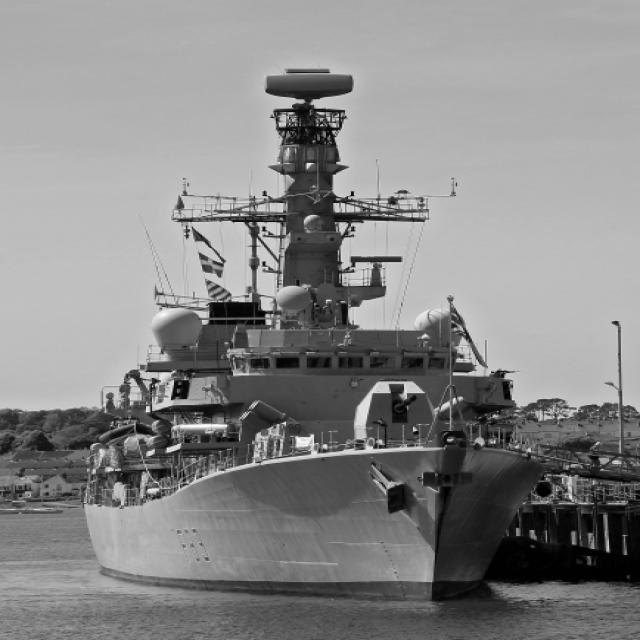Fragata: (81, 65, 556, 607)
